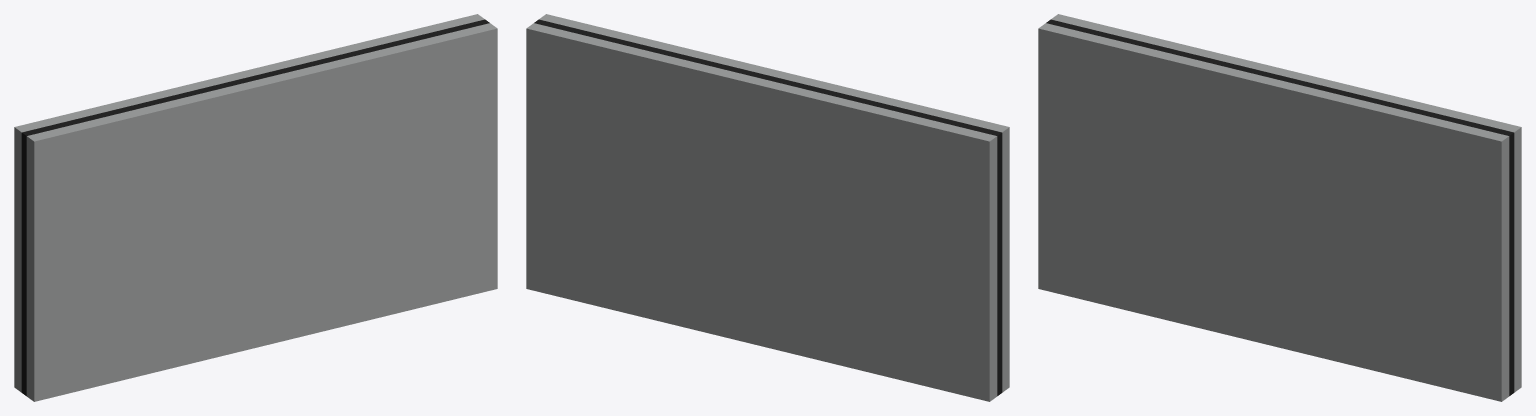
The model's file is HVAC_Transition_25x50.fbx.
3 renders of one model, left to right at view 1: azimuth 30°, elevation 25°; view 2: azimuth 150°, elevation 25°; view 3: azimuth 330°, elevation 25°, orthographic.
Visible parts, largest first — view 1: HVAC_Transition_25x50; view 2: HVAC_Transition_25x50; view 3: HVAC_Transition_25x50.
Part boxes in pixels (box(x1,y1,x2,y2)): HVAC_Transition_25x50: box(14, 14, 497, 401); HVAC_Transition_25x50: box(526, 14, 1009, 401); HVAC_Transition_25x50: box(1038, 14, 1521, 401).
Bounding box in the file's own units: 0.0054 × 0.0029 × 0.0004.
